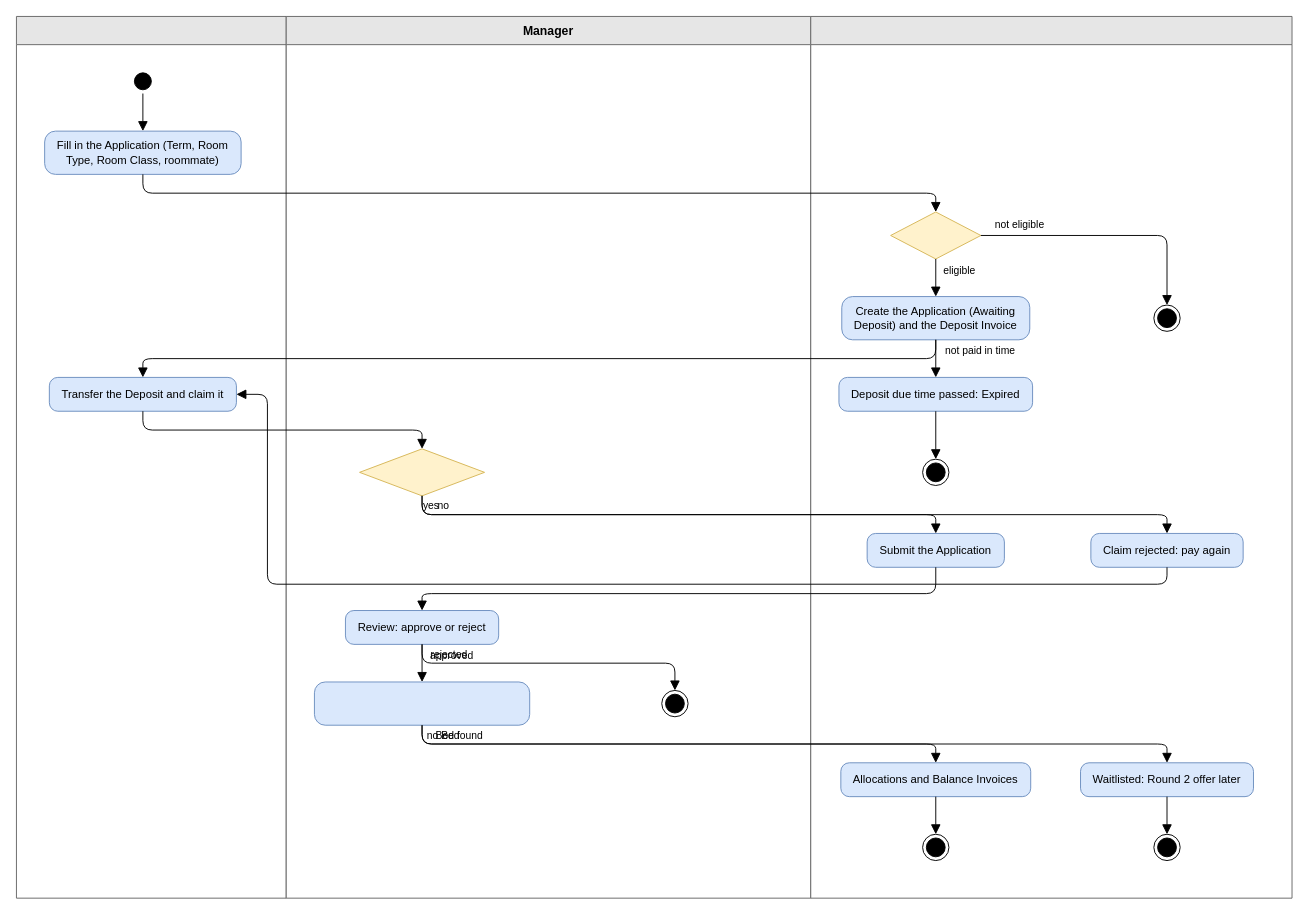
Some shapes in this 1308 by 915 pixel diagram are drawn without their labels. Here are the shapes that lost their labels. From the top down, the box of each, then its label:
(890, 211, 981, 259): Eligible?
(16, 16, 286, 898): Student
(359, 448, 485, 496): Money arrived?
(810, 16, 1292, 898): System
(313, 681, 530, 725): Run the assignment, resolve conflicts, approve
